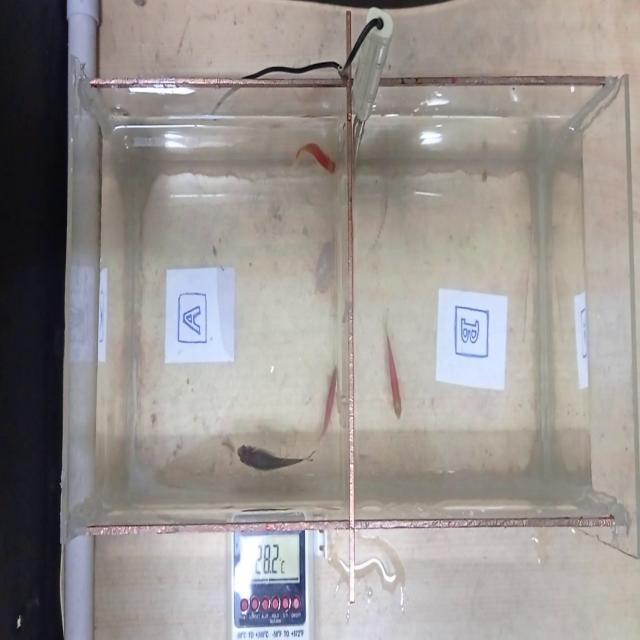Fish A1: (234, 427, 317, 492)
Fish A2: (284, 134, 342, 197)
Fish A3: (310, 350, 342, 461)
Fish B: (370, 310, 426, 458)
